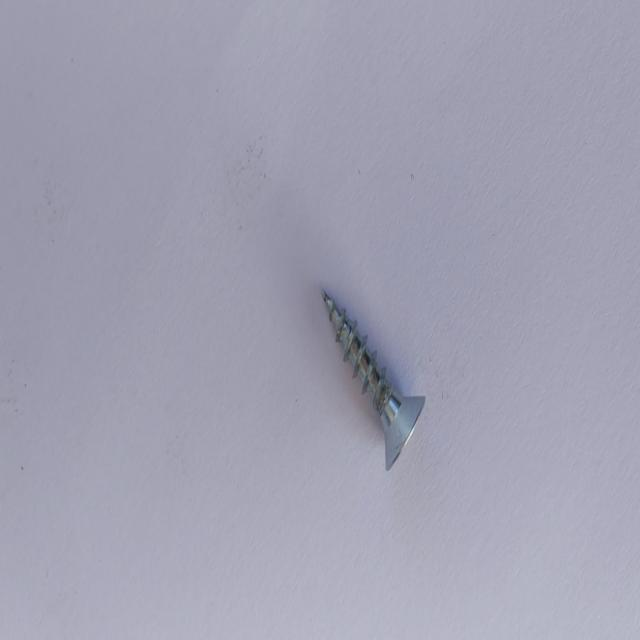Screw: (322, 289, 426, 470)
